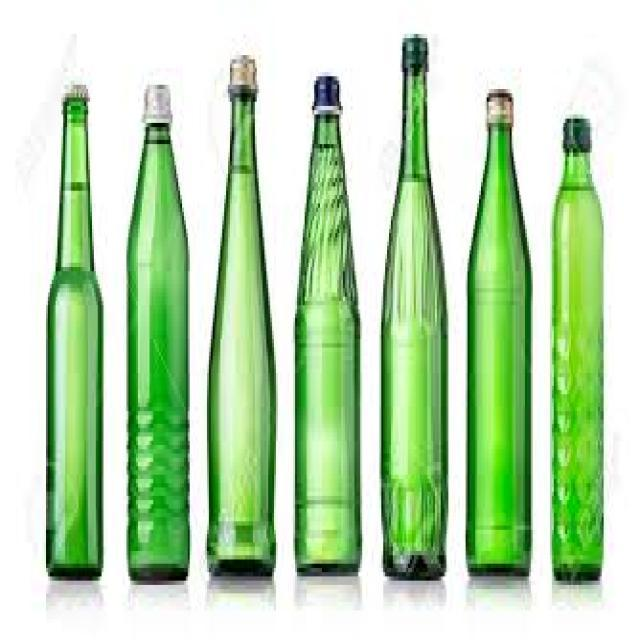Glass: (381, 77, 449, 580), (205, 102, 275, 579), (466, 132, 534, 586), (124, 132, 192, 586), (294, 125, 362, 577), (46, 101, 104, 582), (551, 155, 604, 588)
